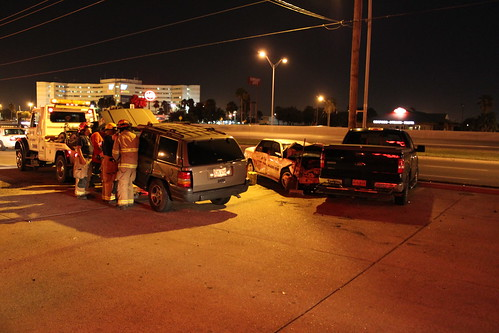building: (40, 74, 203, 112)
car: (121, 112, 248, 212), (318, 131, 420, 201), (244, 135, 323, 194)
firefighter: (117, 114, 141, 211), (97, 124, 121, 204), (70, 120, 94, 200)
light pole: (255, 49, 290, 124)
truck: (14, 101, 95, 181)
